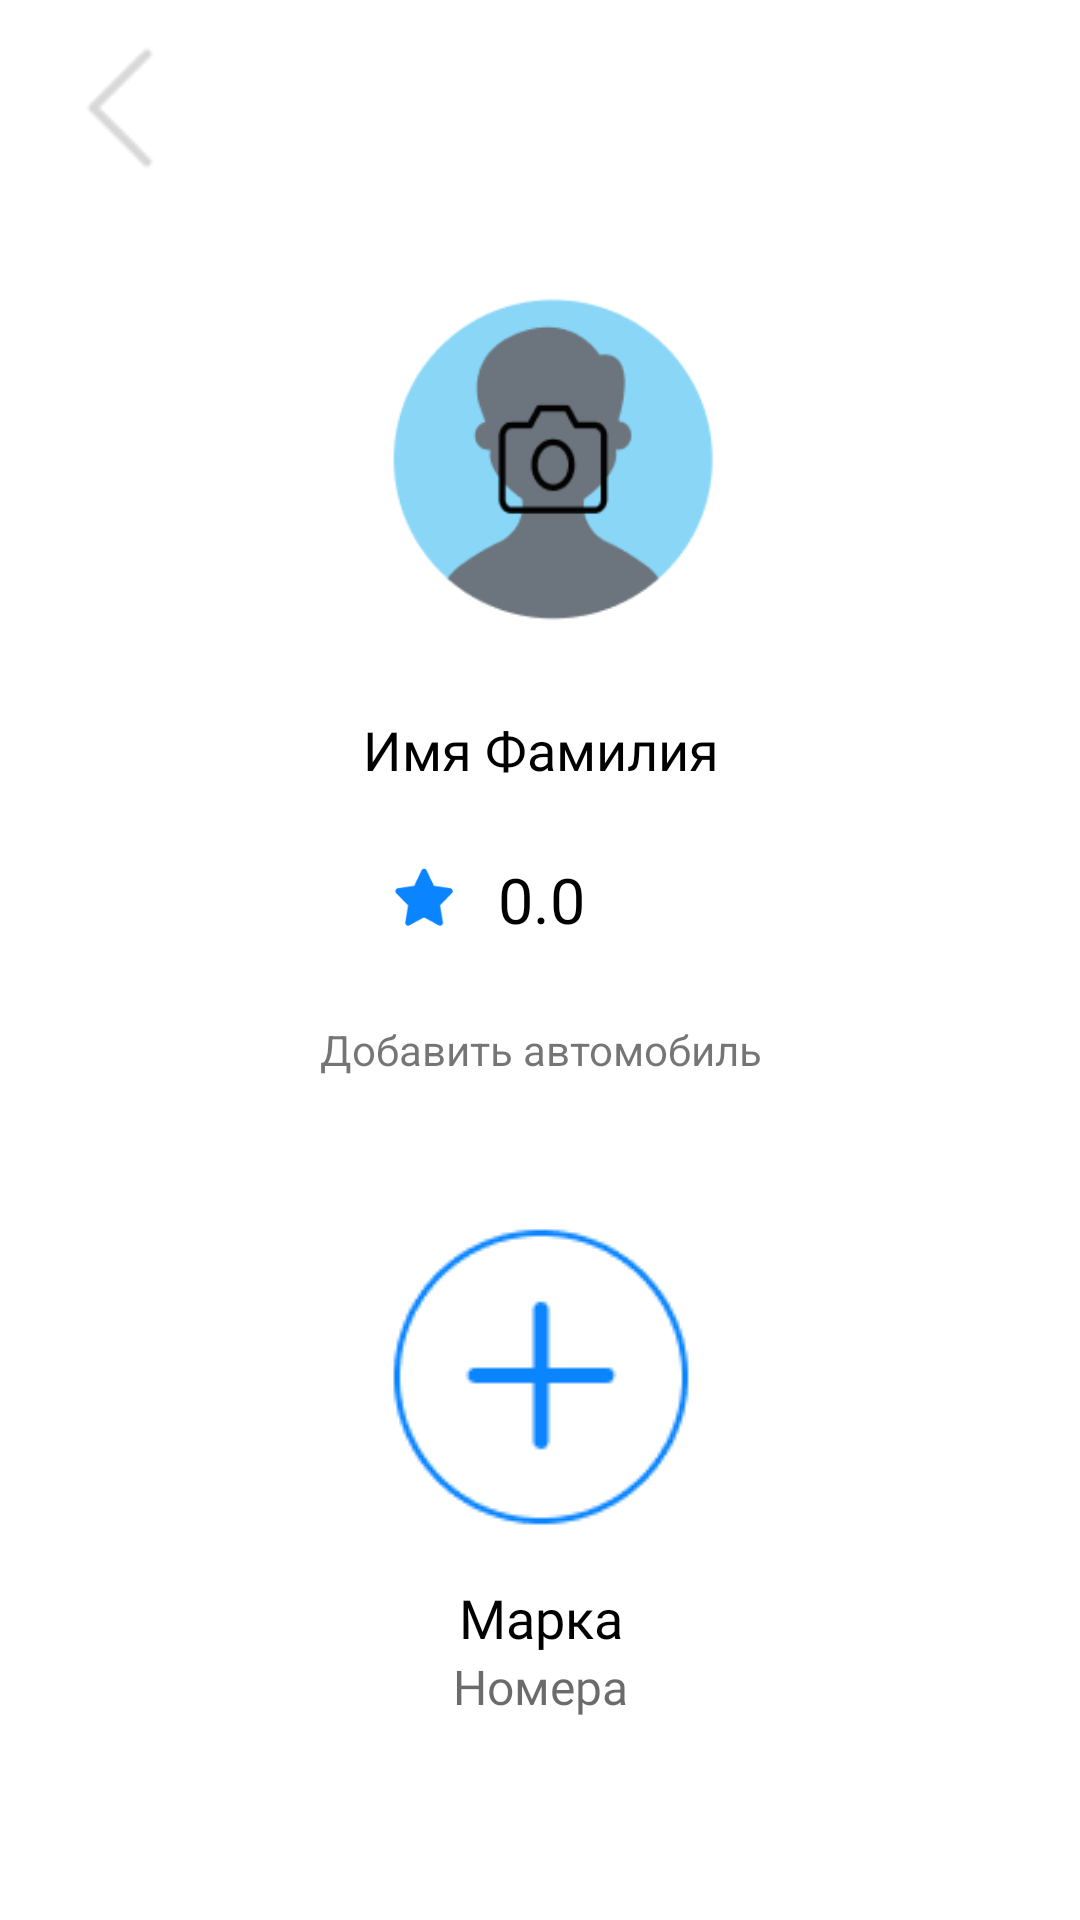

Point at icon controls on the screen. Image size 1080w x 1920h, points as (x=x, y=y).
man: (x=553, y=459)
star: (x=424, y=897)
